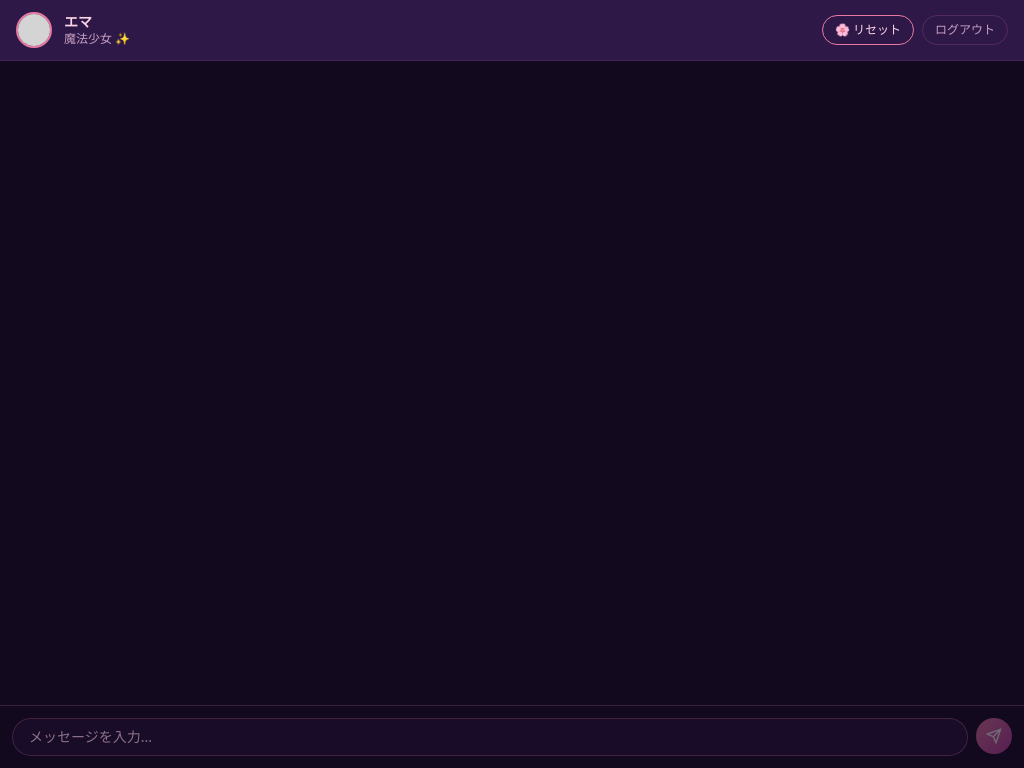
Test: ChatPage › shows error toast when fetch fails
This screenshot has width=1024, height=768.
Type "テスト" into the field with placeholder "メッセージを入力..." at (490, 737), box top-left (12, 718), bottom-right (968, 756)
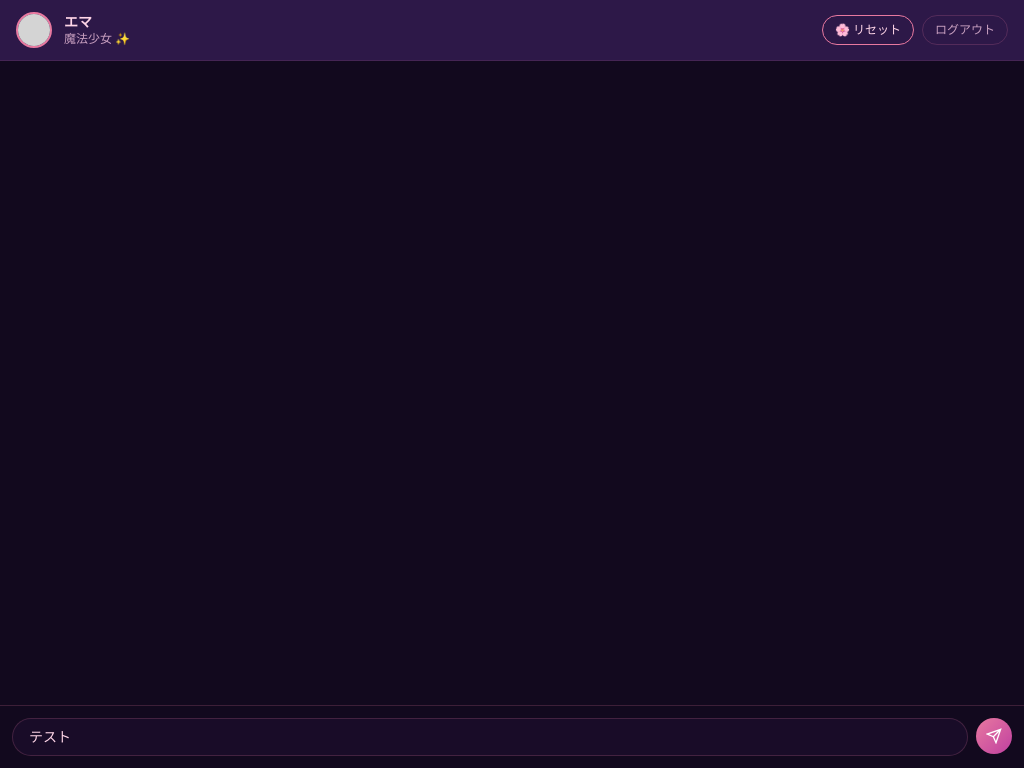
Submit the form with placeholder "メッセージを入力...", box top-left (0, 705), bottom-right (1023, 767)
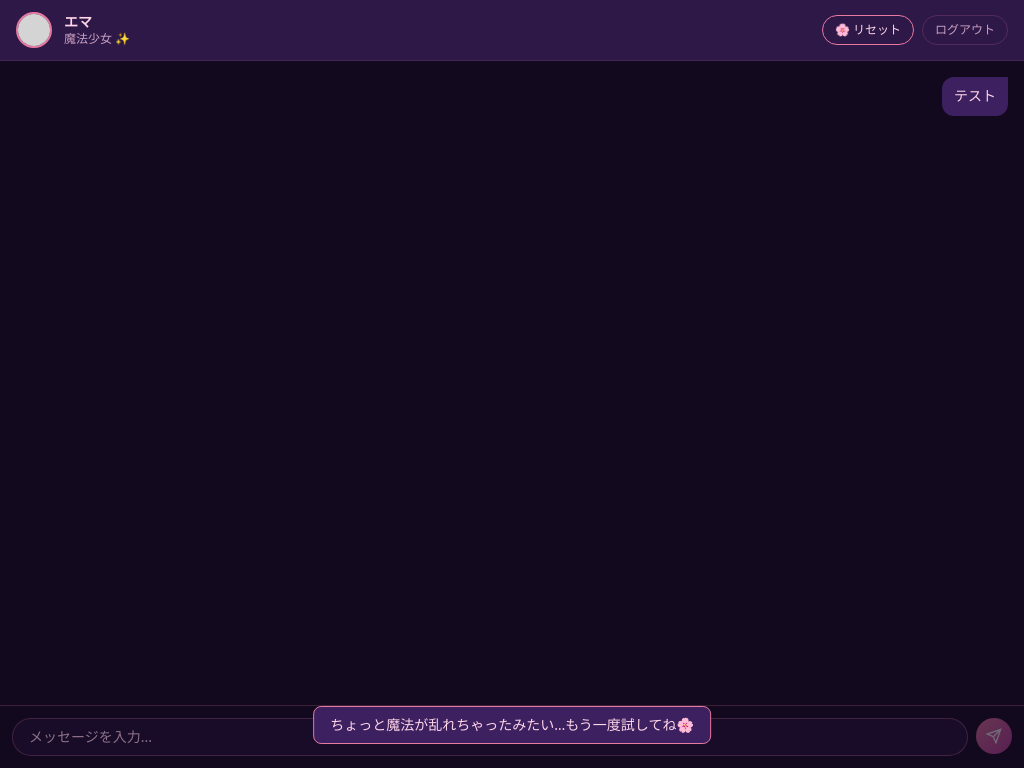
Result: the text "ちょっと魔法が乱れちゃったみたい…もう一度試してね🌸" is shown at top-left (313, 706), bottom-right (711, 744)
